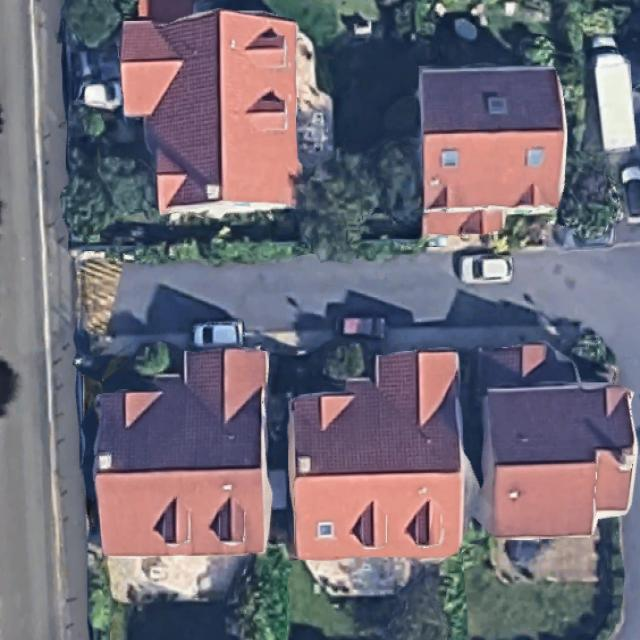maison: (120, 7, 301, 218), (92, 350, 271, 558), (289, 351, 466, 557), (472, 339, 640, 541), (419, 67, 566, 234)
